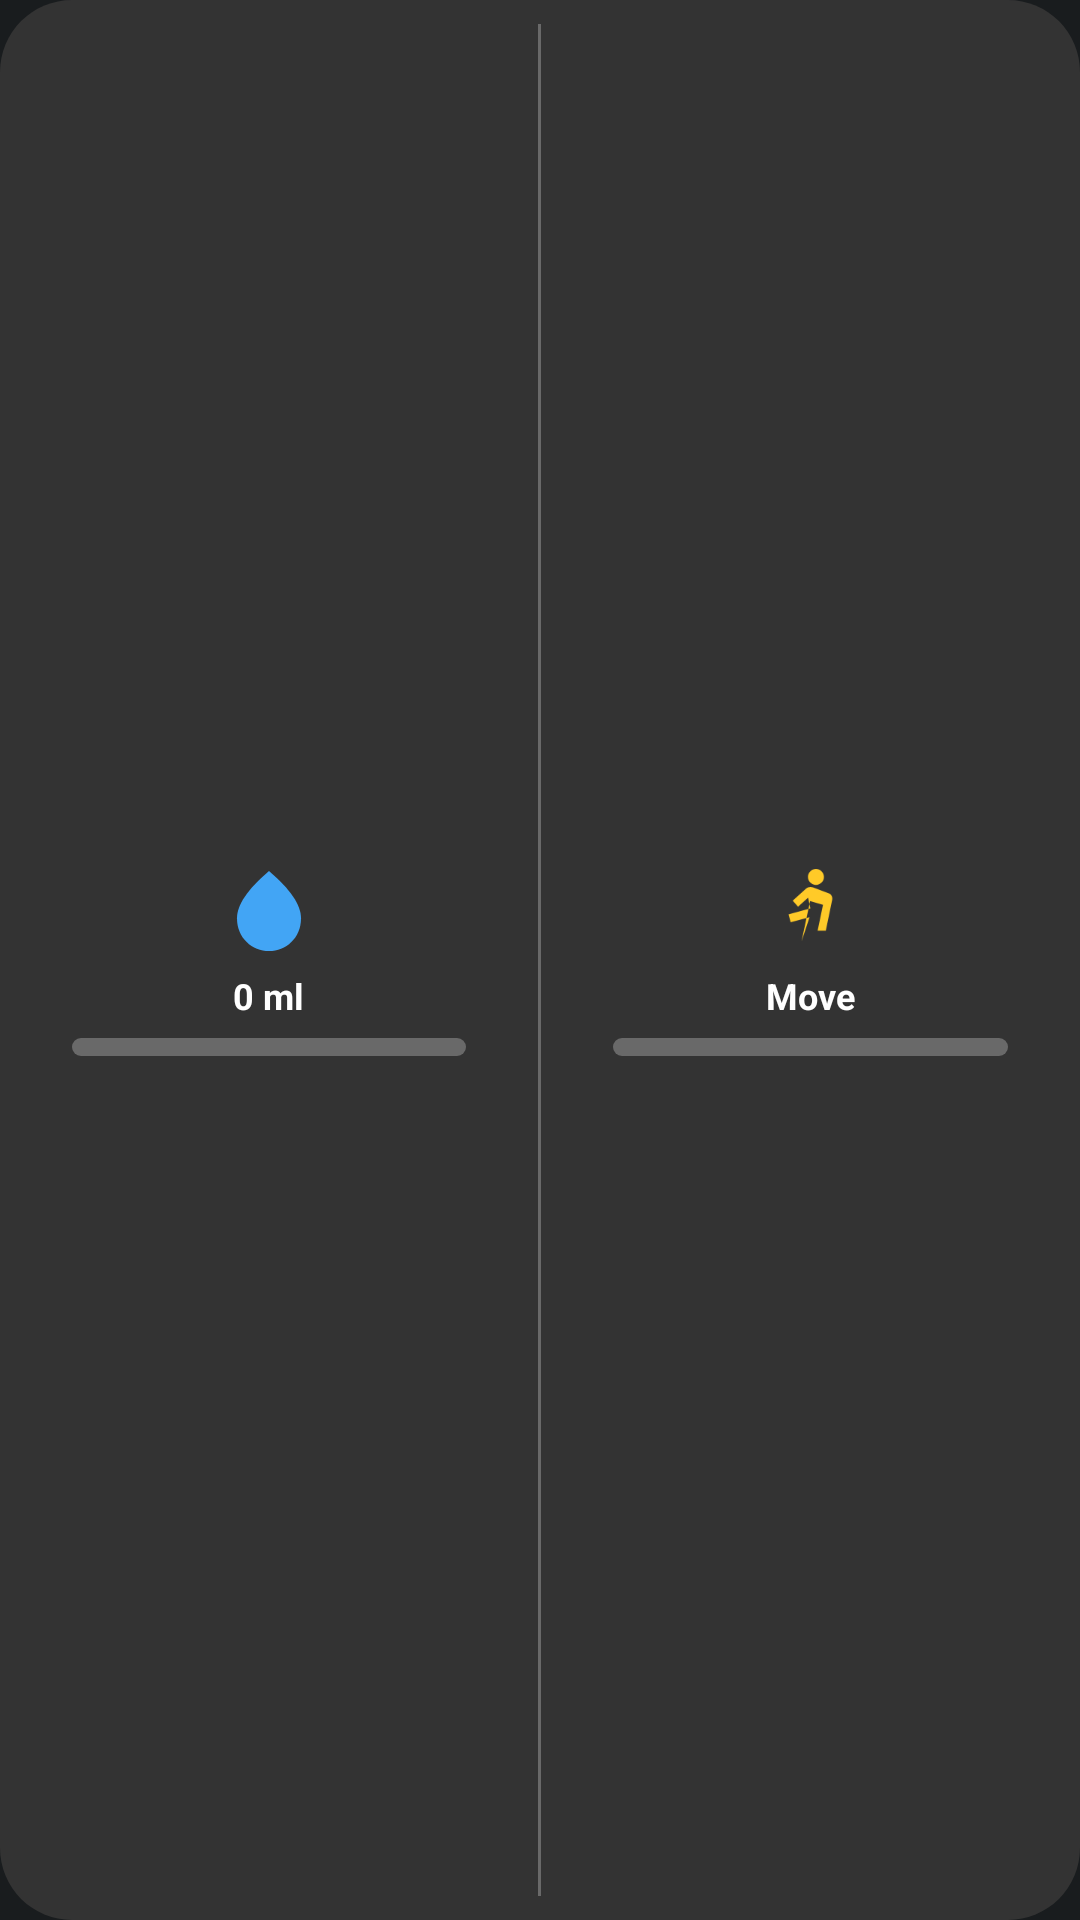

Point at icon controls on the screen. Image size 1080*1920, points as [x,y].
Add Water: [269,911]
